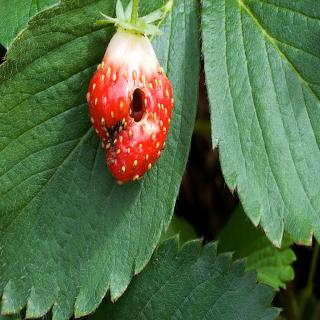Strawberry: (92, 28, 168, 166)
